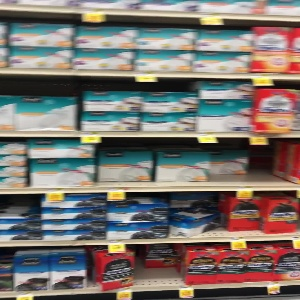void: (211, 142, 292, 182), (134, 244, 183, 286)
